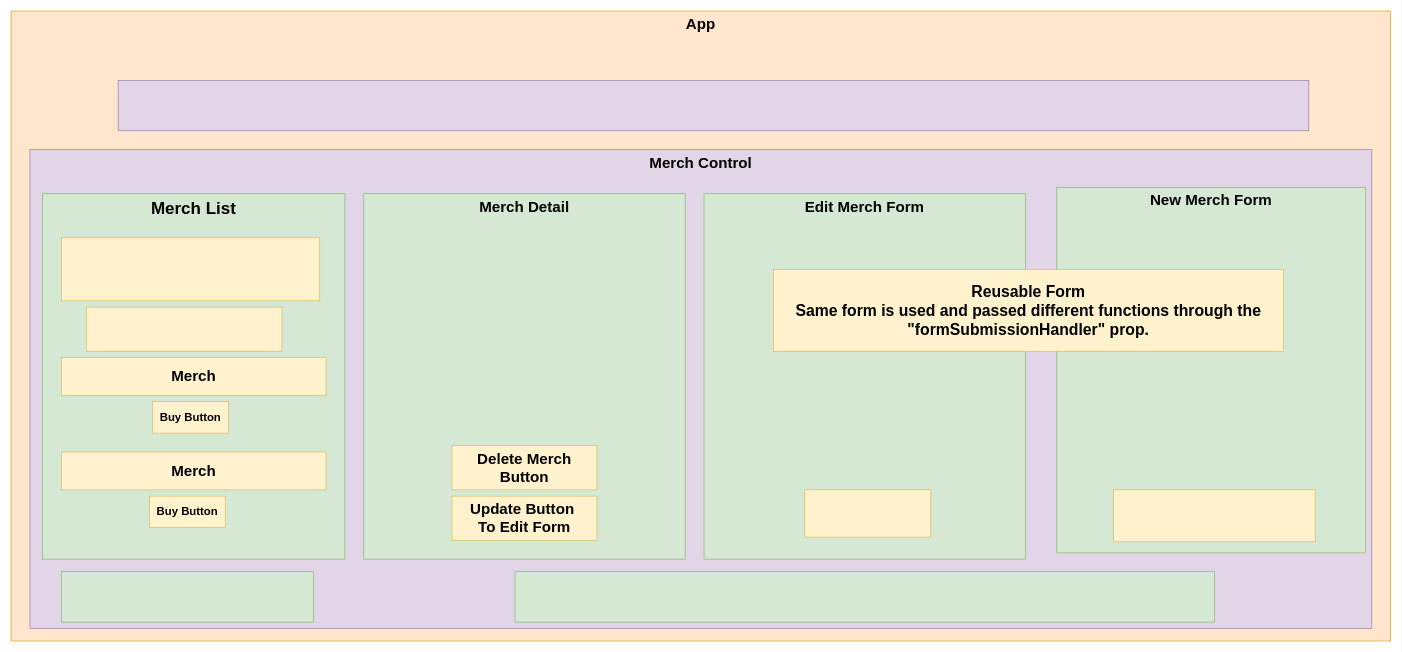
Some shapes in this 1402 by 652 pixel diagram are drawn without their labels. The shapes that lost their labels are listed below. From the top down, each one's centre as x and y in pixels, then its label:
At point 713,105: "Header".
At point 190,269: "Merch Clicking on an Item will display it on the Merch Detail Page".
At point 184,328: "Buy Button Decreases quantity".
At point 867,513: "Confirm Update Button".
At point 1214,515: "Submit Button Add merch and Show Merch List".
At point 187,596: "Add Merch Button Show new contact form".
At point 864,596: "Merch List Button shows Merch List".
